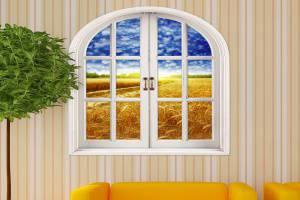window: (73, 8, 228, 153)
